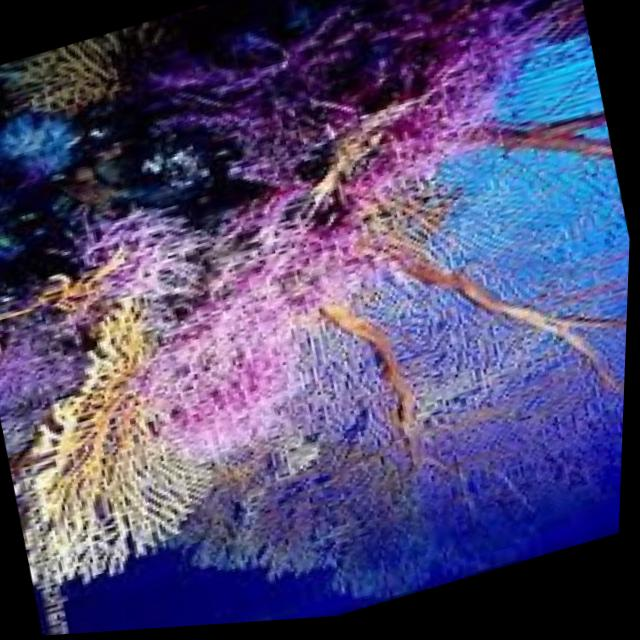Bleached Coral: (0, 278, 243, 618)
Healthy Coral: (150, 134, 635, 631), (118, 0, 585, 317)
